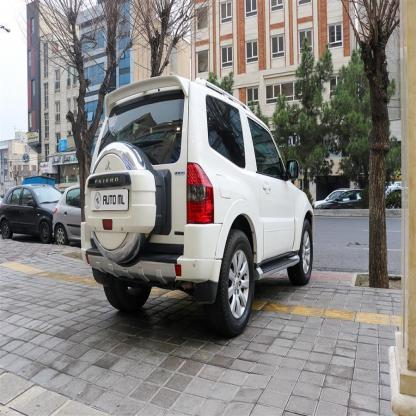Car: (82, 82, 316, 321), (0, 176, 67, 241), (46, 172, 95, 248), (316, 184, 366, 209)
